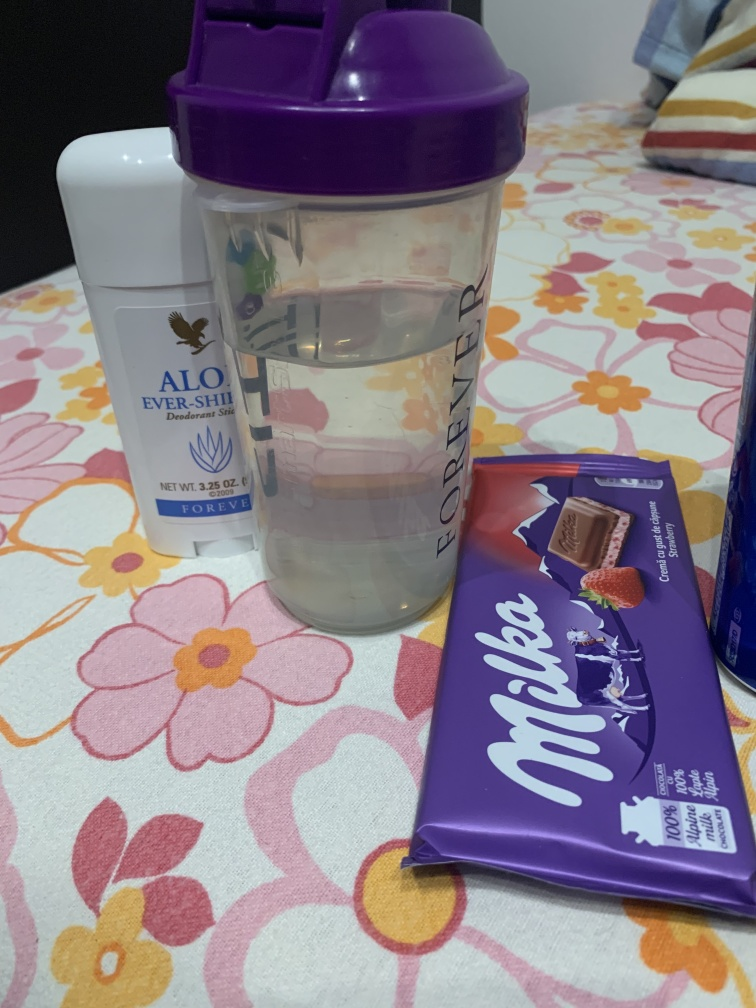milka: (415, 447, 755, 940)
